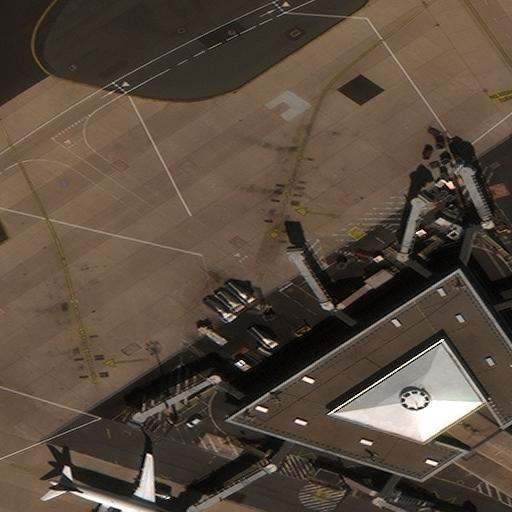Medium Civil Transport: (49, 454, 192, 511)
